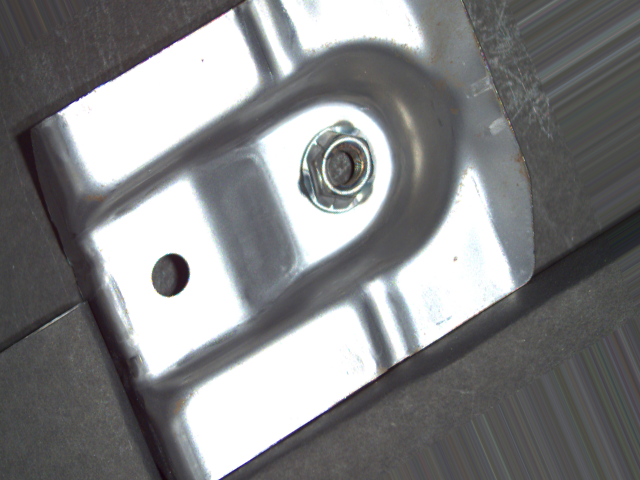good: (298, 118, 380, 215)
